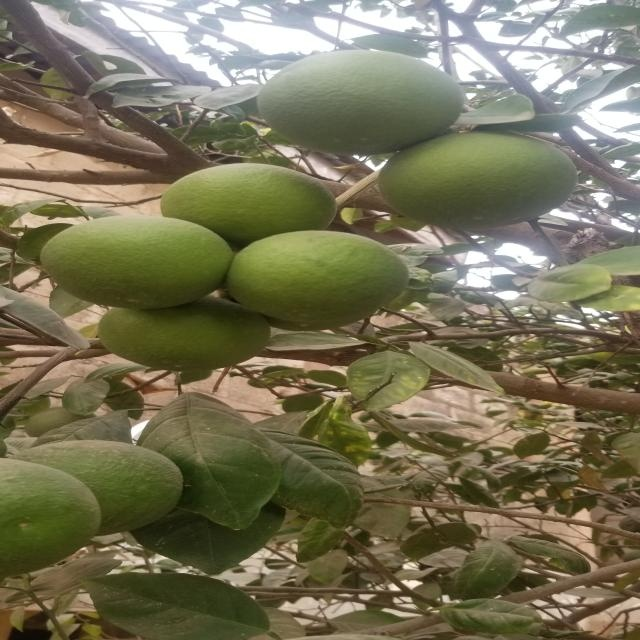agrume: (241, 51, 476, 163), (7, 427, 180, 573), (366, 125, 585, 235), (26, 211, 252, 316), (157, 149, 349, 271), (235, 226, 415, 334), (75, 290, 291, 378)
